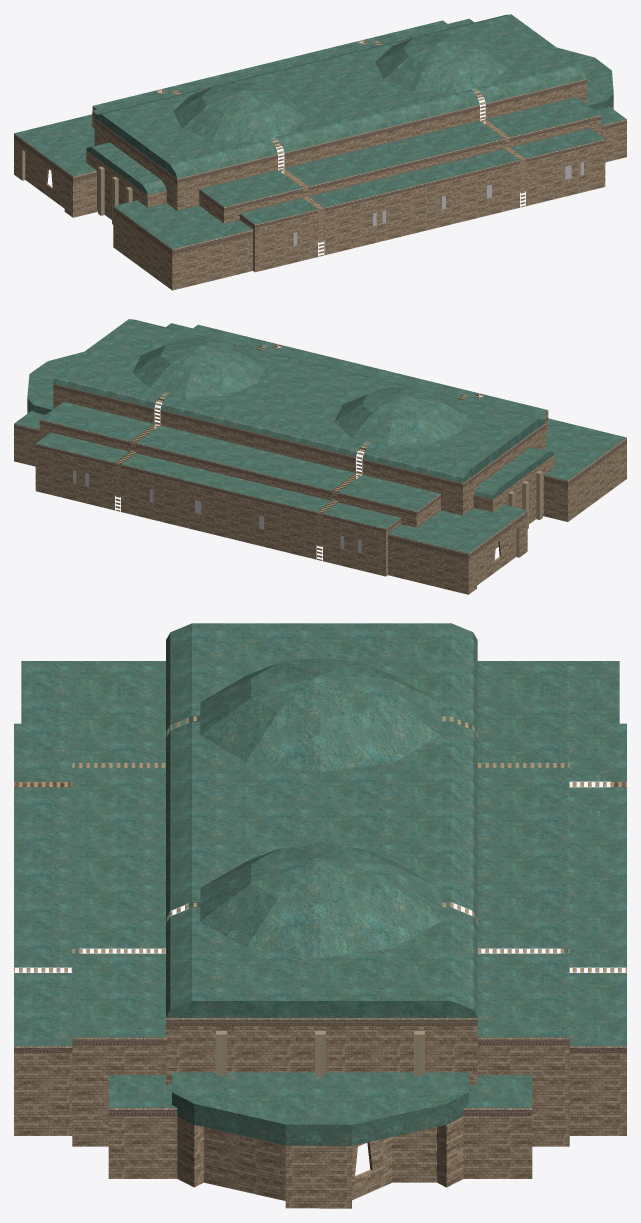
Rendered from thm_nboo_cantina_r0_mesh_l2.fbx.
The picture shows the model from 3 angles, top to bottom: view 1: azimuth 30°, elevation 25°; view 2: azimuth 150°, elevation 25°; view 3: azimuth 270°, elevation 25°; orthographic projection. The views are drawn at different scales.
Parts seen in each view (by area): view 1: mesh_node; view 2: mesh_node; view 3: mesh_node.
Boxes of the visible parts, box(x1,y1,x2,y2) form: mesh_node: box(14, 14, 626, 290); mesh_node: box(14, 319, 626, 594); mesh_node: box(14, 623, 626, 1208).
Size of the model in its own units: 101 by 19.97 by 55.66.
